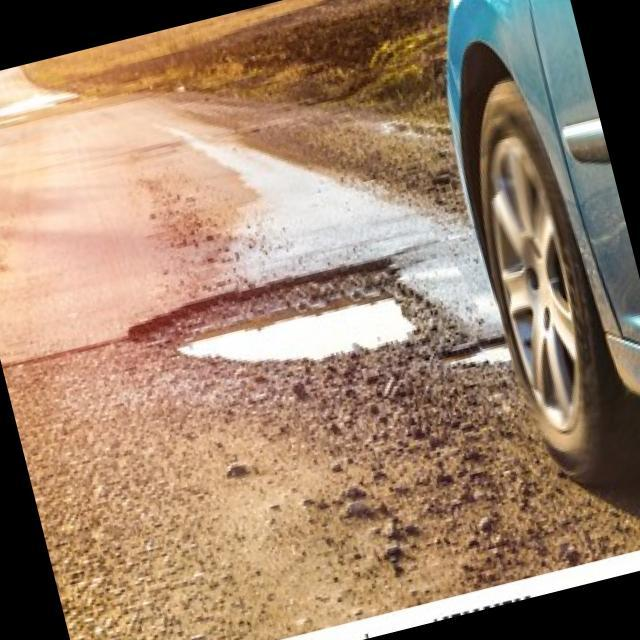Pothole: (125, 237, 452, 418)
